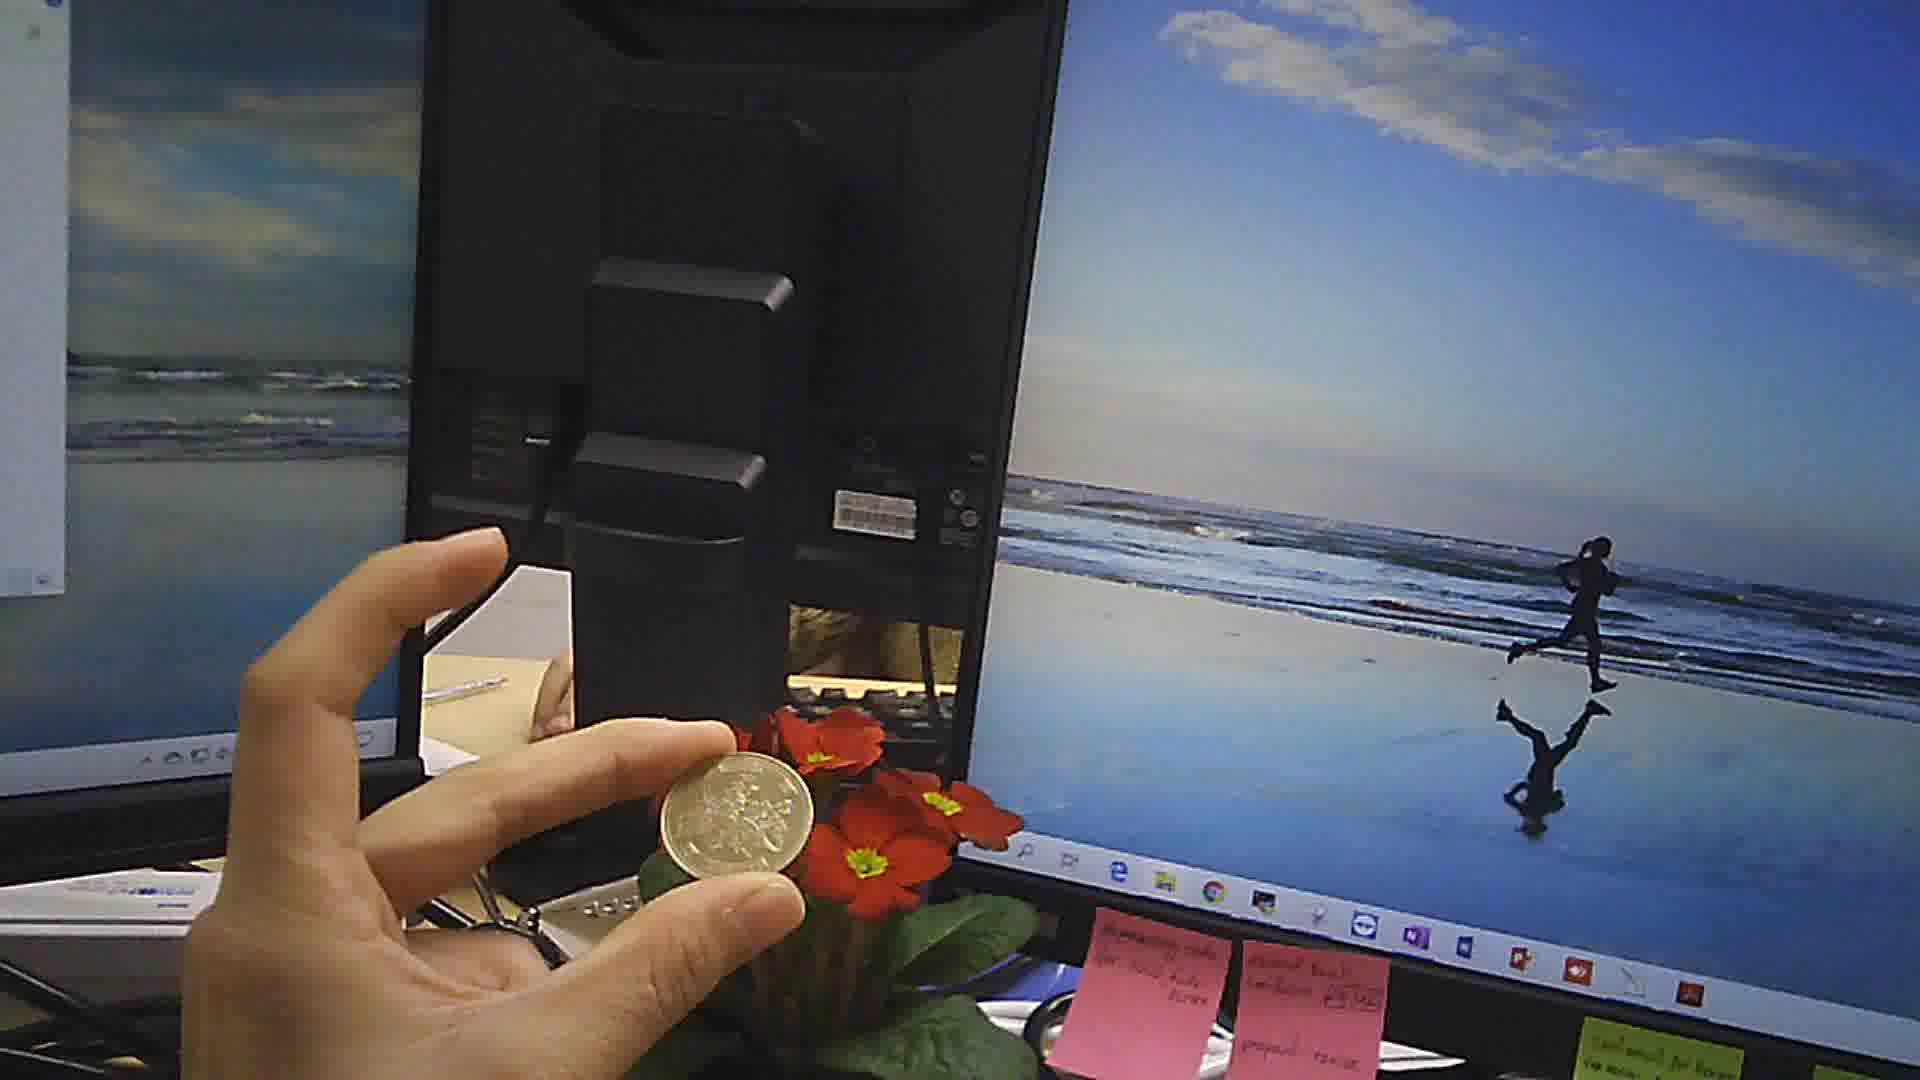500 Yen: (657, 746, 816, 886)
